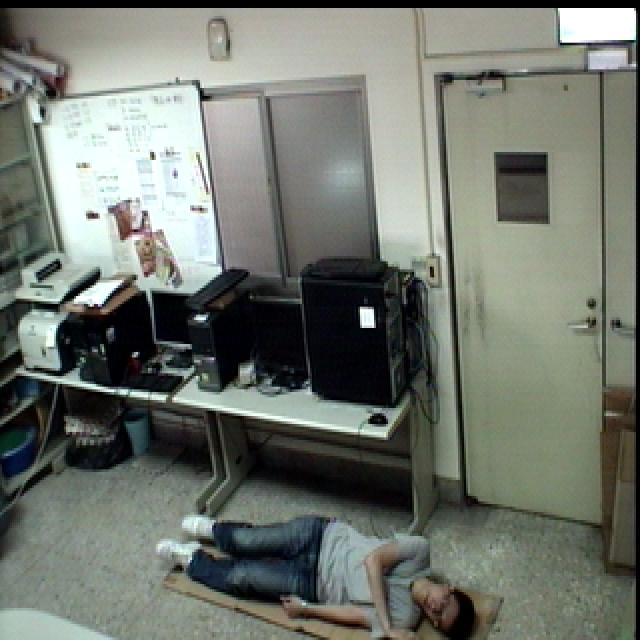lie: (153, 492, 483, 640)
